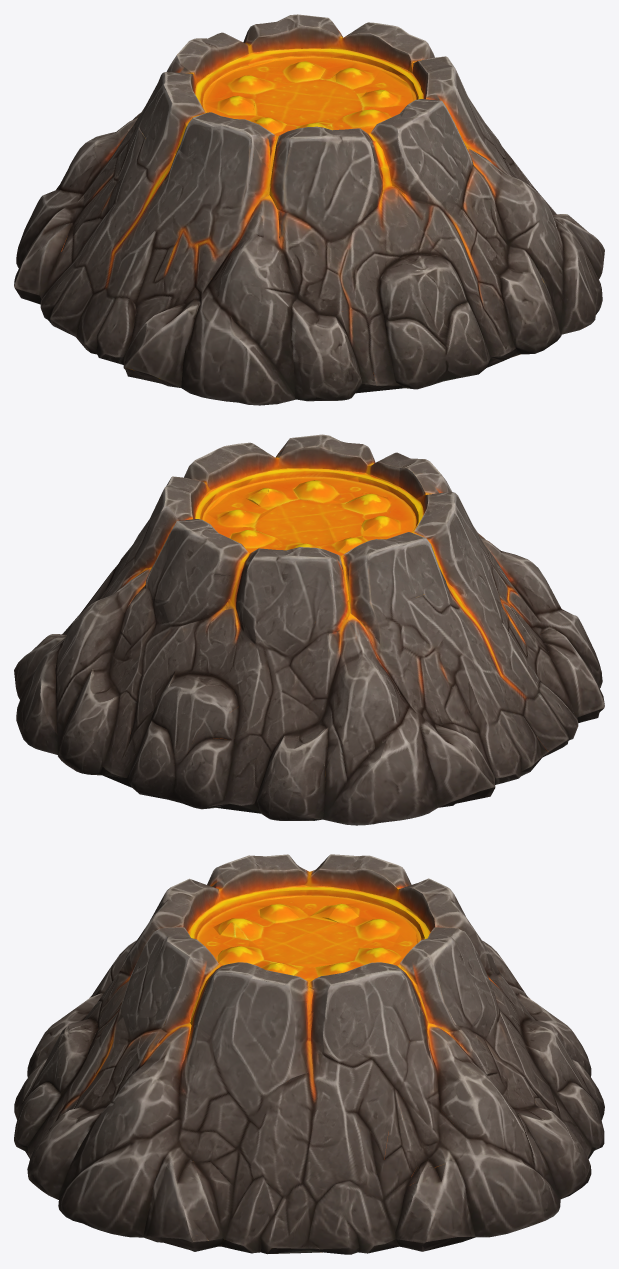
File: lava_vent.glb
3 renders of one model, top to bottom at view 1: azimuth 30°, elevation 25°; view 2: azimuth 150°, elevation 25°; view 3: azimuth 270°, elevation 25°, orthographic. The views are drawn at different scales.
Size of the model in its own units: 1.89 by 0.768 by 1.9.
Materials: 1 (1 with a texture image).
